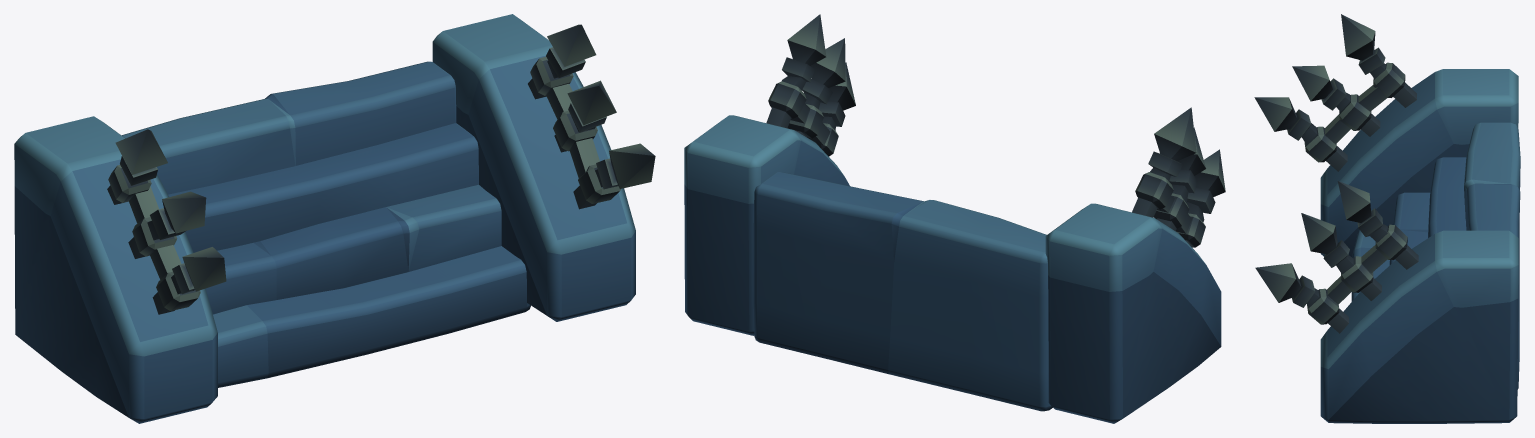
File: stair_set_2.fbx
3 views of the same model, side by side, from view 1: azimuth 30°, elevation 25°; view 2: azimuth 150°, elevation 25°; view 3: azimuth 270°, elevation 25° (orthographic). The views are drawn at different scales.
Visible parts, largest first — view 1: stair_set_2; view 2: stair_set_2; view 3: stair_set_2.
Boxes of the visible parts, x1,y1,x2,y2 form: stair_set_2: [14, 14, 655, 423]; stair_set_2: [684, 14, 1225, 423]; stair_set_2: [1254, 14, 1520, 423].
Size of the model in its own units: 307 by 166 by 174.
